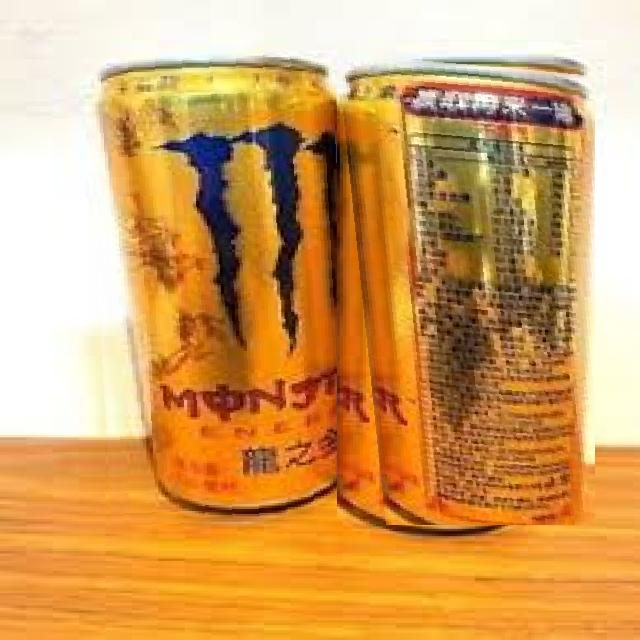Cans: (337, 53, 595, 525), (86, 46, 337, 526)
